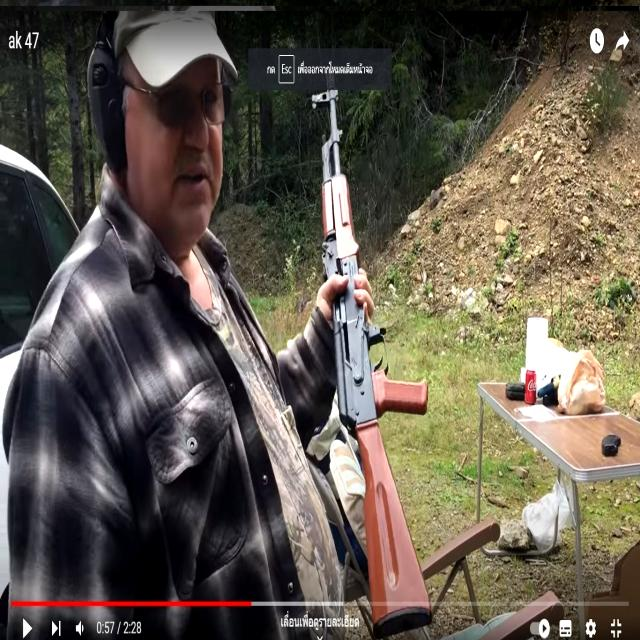ak: (296, 49, 439, 636)
